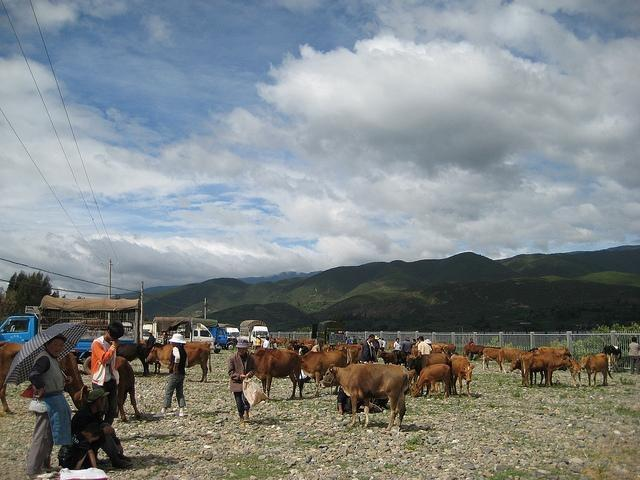truck: (0, 294, 141, 375), (153, 316, 238, 350), (240, 320, 270, 344), (191, 329, 214, 351)
